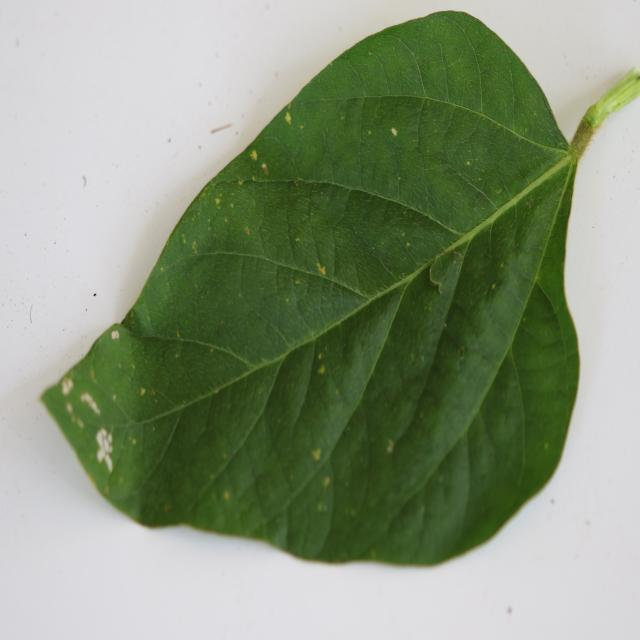Soybean: (35, 11, 640, 572)
downey_mildew: (386, 102, 563, 239), (41, 338, 171, 512), (501, 273, 576, 521), (254, 188, 417, 301), (226, 205, 316, 336), (481, 29, 563, 147), (311, 392, 376, 539), (400, 434, 468, 559), (234, 93, 327, 184), (408, 94, 492, 188), (478, 345, 527, 491), (259, 340, 317, 462), (291, 44, 390, 113), (427, 18, 492, 121), (92, 330, 169, 416), (283, 444, 338, 555), (355, 94, 408, 197), (286, 448, 352, 523), (329, 97, 368, 216), (516, 282, 568, 360), (432, 329, 466, 385), (131, 302, 154, 334)
